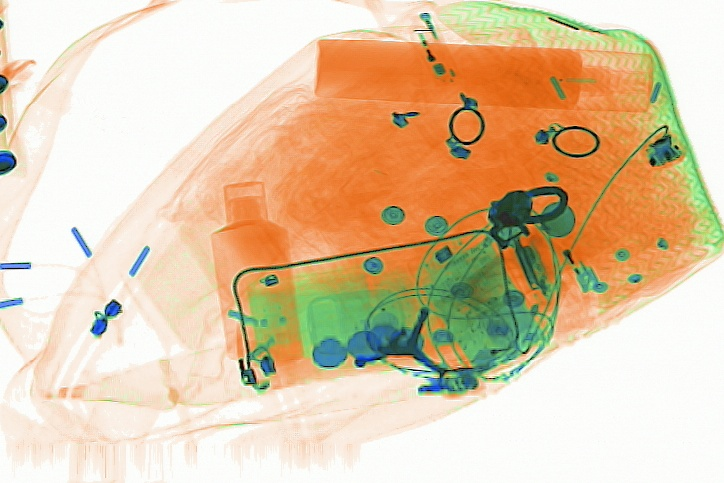lighter: (534, 216, 602, 297), (403, 9, 465, 88)
